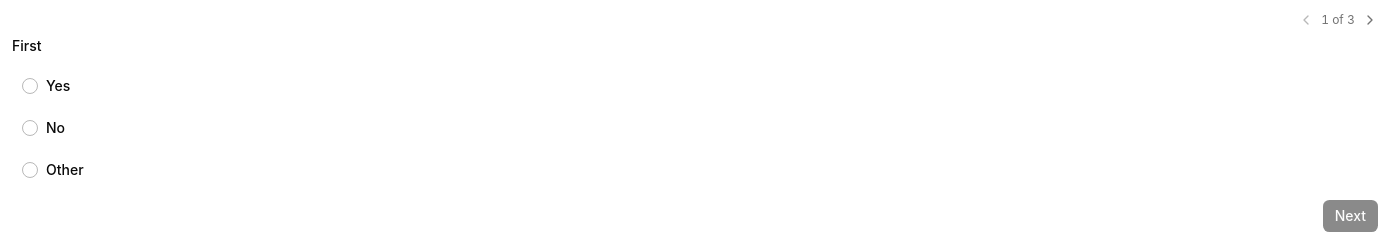
Scenario: TaskChatComposer › composer takeovers › single-choice selection stays on the page › advances only on an explicit Next
The width and height of the screenshot is (1390, 249).
What coordinates should you click on to do the following:
click the radio button labelled "Yes"
I would click on:
 (30, 86)
Its box is [12,68,1378,104].
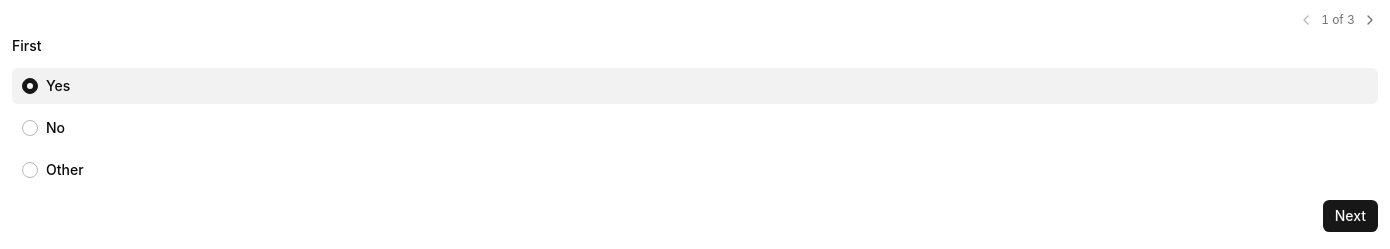
Expected: the text "1 of 3" is shown, [1321,12,1355,27]
What coordinates should you click on to do the following:
click the button "Next"
I would click on:
 (1350, 216)
Its box is [1323,200,1378,232].
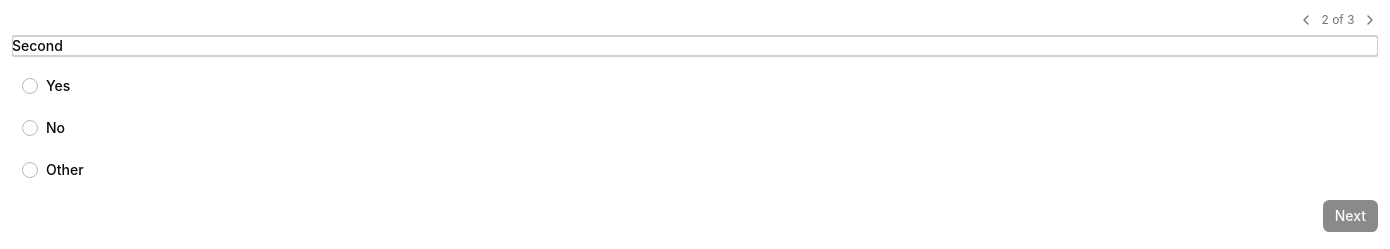
Result: the text "2 of 3" is shown at [1321,12,1355,27]
Result: the text "Second" is shown at [12,37,63,54]
